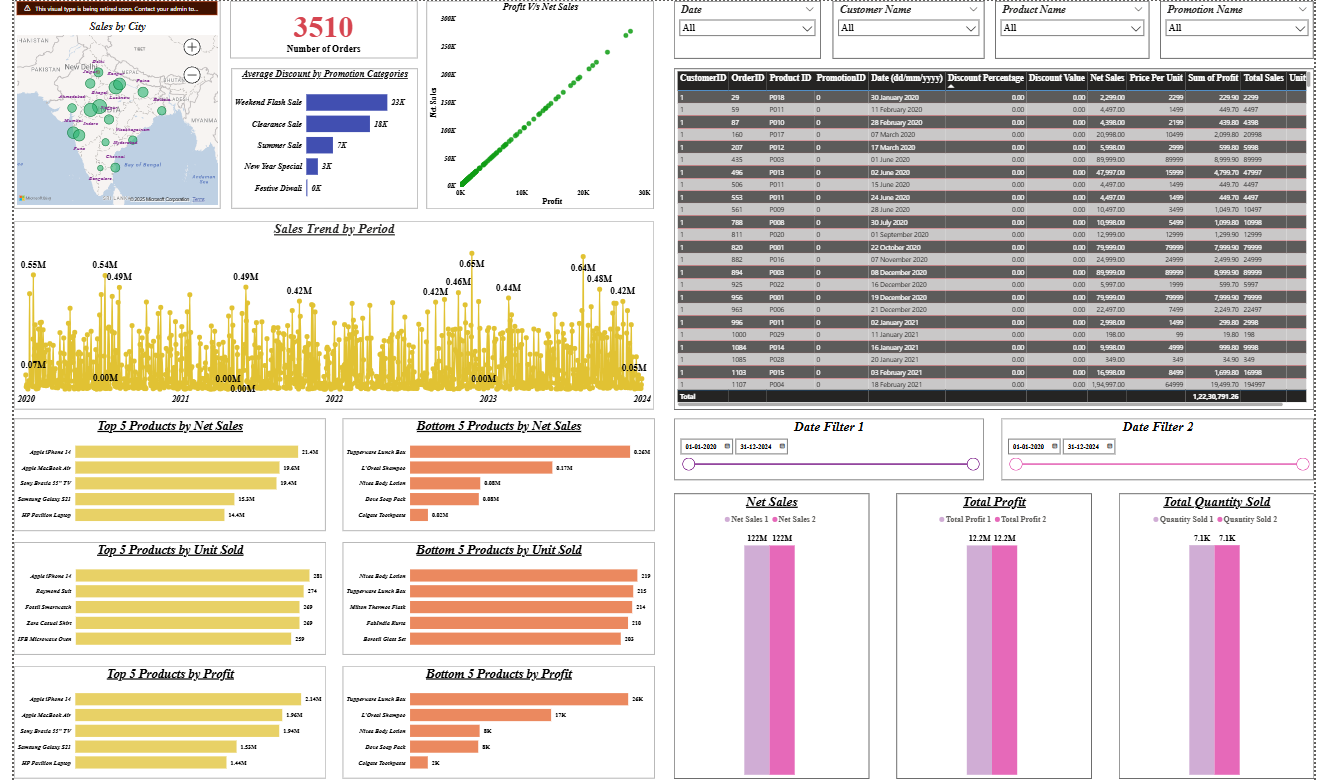

What the dashboard file says about the page in this screenshot:
{"tool":"powerbi","page":{"name":"Dashboard","canvas":[2600,1560],"ordinal":5},"visuals":[{"type":"lineChart","title":"Sales Trend by Period","fields":{"Category":["Fact Table.Date (dd/mm/yyyy).Variation.Date Hierarchy.Year"],"Y":["Sum(Fact Table.Net Sales)"]},"box":[0,440,1280,376.7],"z":0},{"type":"scatterChart","title":"Profit V/s Net Sales","fields":{"X":["Fact Table.Profit"],"Y":["Fact Table.Net Sales"]},"box":[826,0,454,416],"z":1000},{"type":"barChart","title":"Average Discount by Promotion Categories","fields":{"Y":["Avg(Fact Table.Discount Value)"],"Category":["Dim Promotion.Promotion Name"]},"box":[435,135,372.5,280],"z":2000},{"type":"map","title":"Sales by City","fields":{"Category":["Dim Customers.City"],"Size":["Sum(Fact Table.Net Sales)"]},"box":[0,0,412.5,415],"z":3000},{"type":"card","fields":{"Values":["Count(Fact Table.OrderID)"]},"box":[431.4,0,374.3,114.3],"z":4000},{"type":"barChart","title":"Top 5 Products by Net Sales","fields":{"Category":["Dim Product.Product Name"],"Y":["Sum(Fact Table.Net Sales)"]},"box":[0,835,623.3,225],"z":5000},{"type":"barChart","title":"Bottom 5 Products by Net Sales","fields":{"Category":["Dim Product.Product Name"],"Y":["Sum(Fact Table.Net Sales)"]},"box":[656.4,834.7,623.6,225],"z":6000},{"type":"barChart","title":"Top 5 Products by Unit Sold","fields":{"Category":["Dim Product.Product Name"],"Y":["Sum(Fact Table.Units Sold)"]},"box":[0,1081.9,623.6,225],"z":7000},{"type":"barChart","title":"Bottom 5 Products by Unit Sold","fields":{"Category":["Dim Product.Product Name"],"Y":["Sum(Fact Table.Units Sold)"]},"box":[656.4,1081.9,623.6,225],"z":8000},{"type":"barChart","title":"Top 5 Products by Profit","fields":{"Category":["Dim Product.Product Name"],"Y":["Sum(Fact Table.Profit)"]},"box":[0,1329.1,623.6,225],"z":9000},{"type":"barChart","title":"Bottom 5 Products by Profit","fields":{"Category":["Dim Product.Product Name"],"Y":["Sum(Fact Table.Profit)"]},"box":[656.4,1329.1,623.6,225],"z":10000},{"type":"slicer","title":"Date Filter 1","fields":{"Values":["Date Table 1.Date"]},"box":[1320,835,620,123.3],"z":11000},{"type":"slicer","title":"Date Filter 2","fields":{"Values":["Date Table 2.Date"]},"box":[1975,835,625,123.3],"z":12000},{"type":"clusteredColumnChart","title":"Net Sales","fields":{"Y":["Sum(Fact Table.Net Sales)","Date Table 1.Sum of Net Sale"]},"box":[1320,985,390,570],"z":13000},{"type":"clusteredColumnChart","title":"Total Profit","fields":{"Y":["Sum(Fact Table.Profit)","Measure Table.Total Profit"]},"box":[1765,985,390,570],"z":14000},{"type":"clusteredColumnChart","title":"Total Quantity Sold","fields":{"Y":["Sum(Fact Table.Units Sold)","Measure Table.Total Quantity Sold"]},"box":[2210,985,390,570],"z":15000},{"type":"tableEx","fields":{"Values":["Fact Table.CustomerID","Fact Table.OrderID","Fact Table.Product ID","Fact Table.PromotionID","Fact Table.Date (dd/mm/yyyy)","Fact Table.Discount Percentage","Fact Table.Discount Value","Fact Table.Net Sales","Fact Table.Price Per Unit","Sum(Fact Table.Profit)","Fact Table.Total Sales","Fact Table.Units Sold"]},"box":[1320,135,1280,682.5],"z":16000},{"type":"slicer","fields":{"Values":["Date Table 1.Date"]},"box":[1320,0,293.3,115],"z":17000},{"type":"slicer","fields":{"Values":["Dim Customers.Customer Name"]},"box":[1636.7,0,303.3,115],"z":18000},{"type":"slicer","fields":{"Values":["Dim Product.Product Name"]},"box":[1961.7,0,308.3,115],"z":19000},{"type":"slicer","fields":{"Values":["Dim Promotion.Promotion Name"]},"box":[2293.3,0,306.7,115],"z":20000}]}

Visuals, with their boxes in screenshot pixels (x1, y1, x2, y2), scaled from the page's 2600x1560 canvas onto the 1320x781 screenshot:
"Sales Trend by Period" lineChart: 0, 220, 650, 409
"Profit V/s Net Sales" scatterChart: 419, 0, 650, 208
"Average Discount by Promotion Categories" barChart: 221, 68, 410, 208
"Sales by City" map: 0, 0, 209, 208
card - Count(Fact Table.OrderID): 219, 0, 409, 57
"Top 5 Products by Net Sales" barChart: 0, 418, 316, 531
"Bottom 5 Products by Net Sales" barChart: 333, 418, 650, 531
"Top 5 Products by Unit Sold" barChart: 0, 542, 317, 654
"Bottom 5 Products by Unit Sold" barChart: 333, 542, 650, 654
"Top 5 Products by Profit" barChart: 0, 665, 317, 778
"Bottom 5 Products by Profit" barChart: 333, 665, 650, 778
"Date Filter 1" slicer: 670, 418, 985, 480
"Date Filter 2" slicer: 1003, 418, 1319, 480
"Net Sales" clusteredColumnChart: 670, 493, 868, 778
"Total Profit" clusteredColumnChart: 896, 493, 1094, 778
"Total Quantity Sold" clusteredColumnChart: 1122, 493, 1319, 778
tableEx - Fact Table.CustomerID x Fact Table.OrderID: 670, 68, 1319, 409
slicer - Date Table 1.Date: 670, 0, 819, 58
slicer - Dim Customers.Customer Name: 831, 0, 985, 58
slicer - Dim Product.Product Name: 996, 0, 1152, 58
slicer - Dim Promotion.Promotion Name: 1164, 0, 1319, 58
